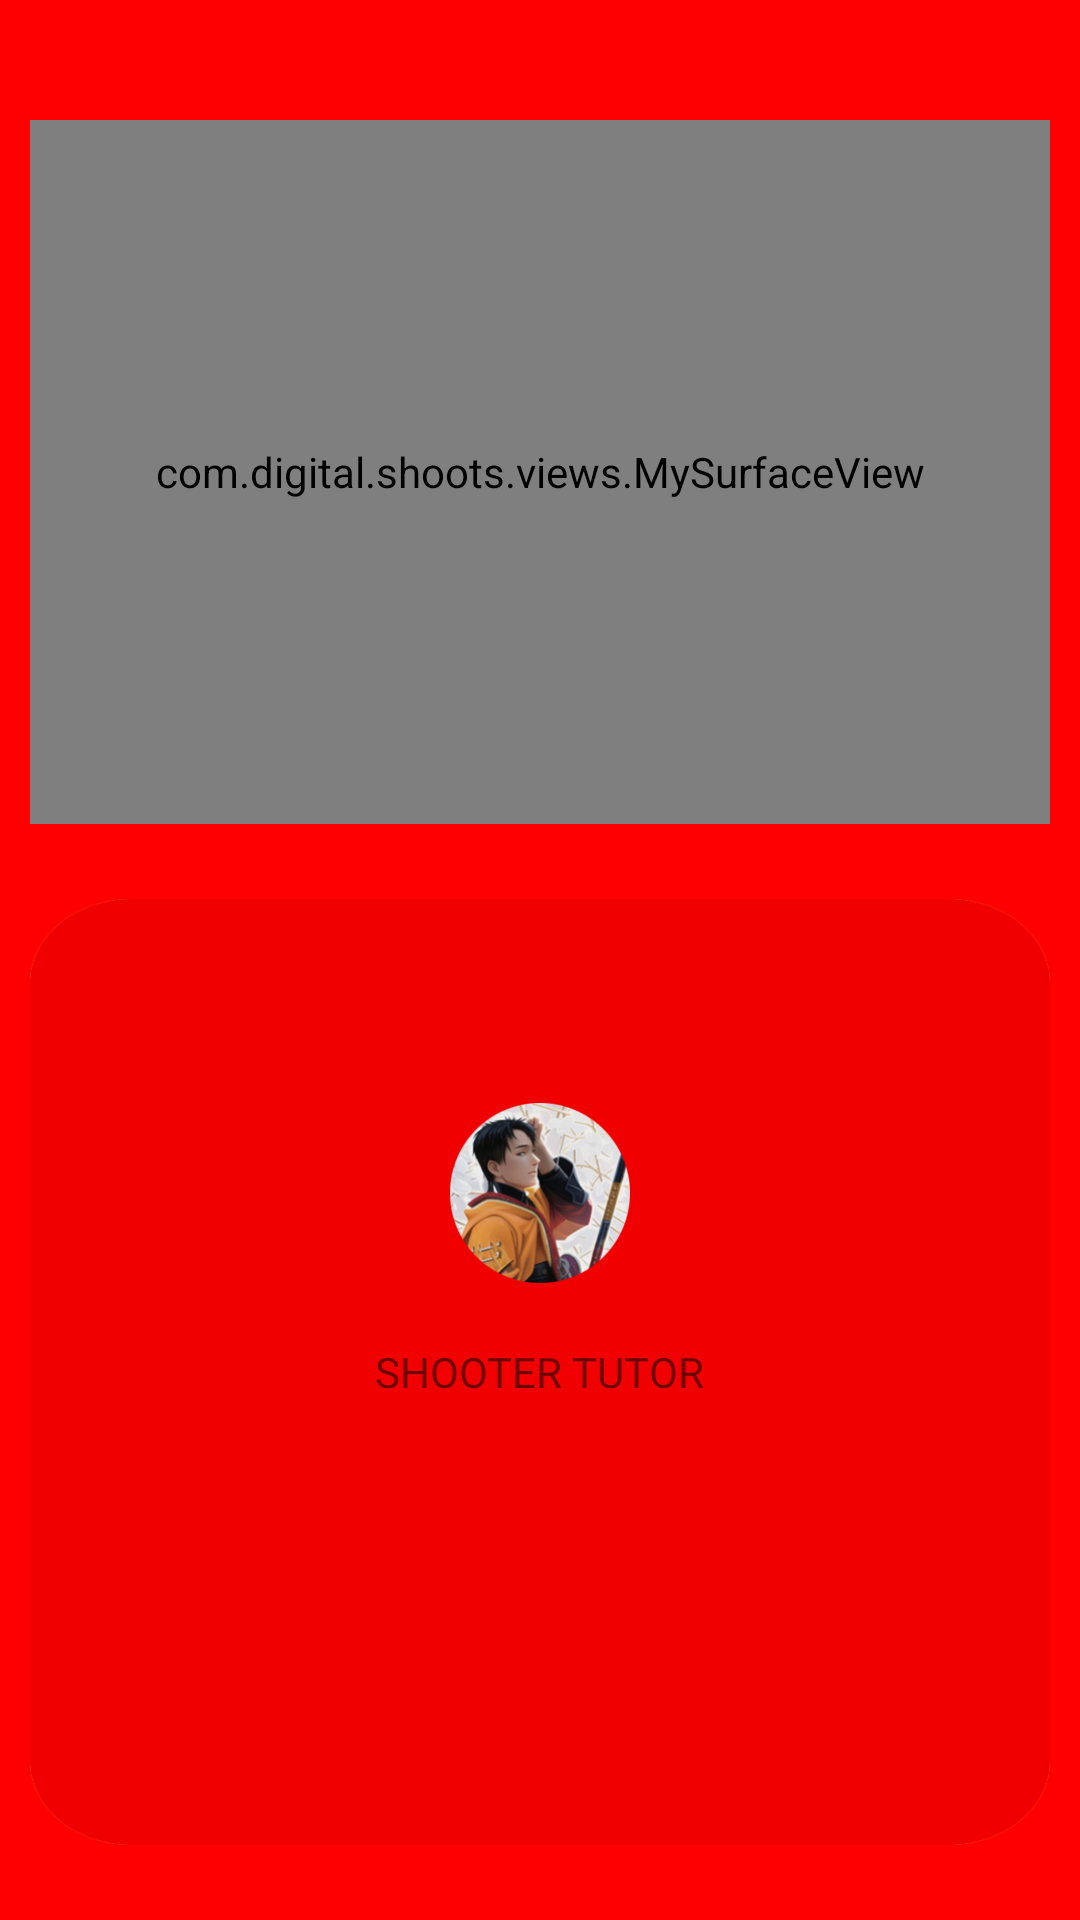

Named icons in this screenshot (1080w x 1920h) and their bounding boxes, BBox(x1, y1, x2, y2):
user: BBox(450, 1103, 630, 1283)
